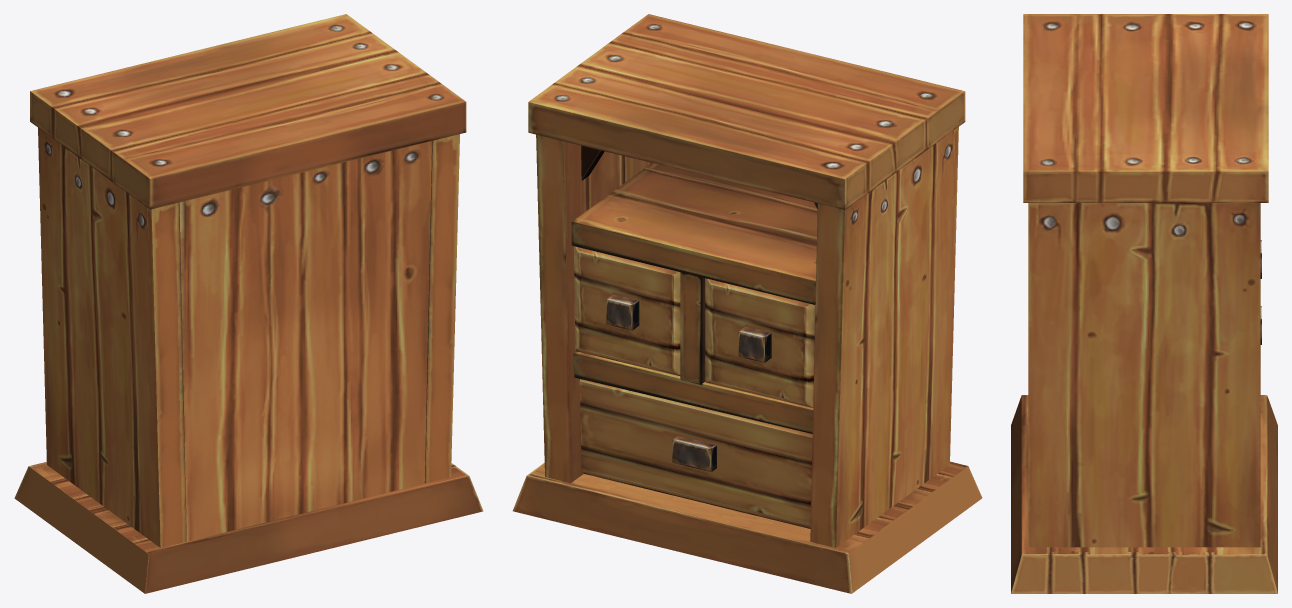
Rendered from cupboardsmall_01.fbx.
The picture shows the model from 3 angles, left to right: view 1: azimuth 30°, elevation 25°; view 2: azimuth 150°, elevation 25°; view 3: azimuth 270°, elevation 25°; orthographic projection. The views are drawn at different scales.
Parts seen in each view (by area): view 1: polySurface71; view 2: polySurface71; view 3: polySurface71.
Part boxes in pixels (left/top/right/bottom): polySurface71: left=14, top=14, right=483, bottom=593; polySurface71: left=512, top=14, right=982, bottom=593; polySurface71: left=1011, top=14, right=1277, bottom=593.
Bounding box in the file's own units: 99.93 × 115 × 66.77.
